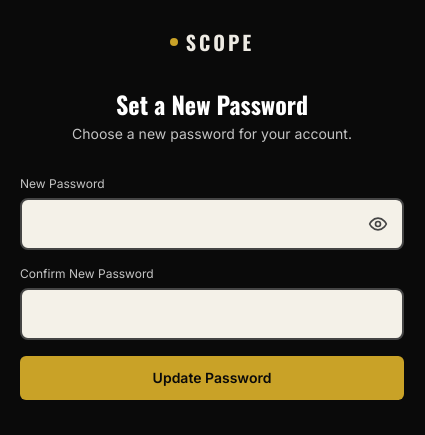
Test case: ResetPassword › shows a safe generic error (not the raw Supabase message) and stays on the form if updateUser fails
Check: the heading "Set a New Password" is shown, box [116,86,308,122]
Type "newpw123" into the 1st password field at (212, 224), box [20,198,404,250]
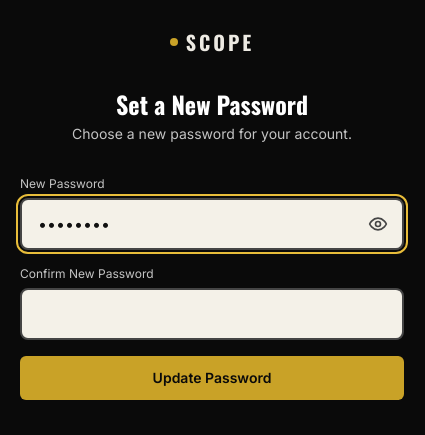
Type "newpw123" into the password field below "Confirm New Password" at (212, 314), box [20,288,404,340]
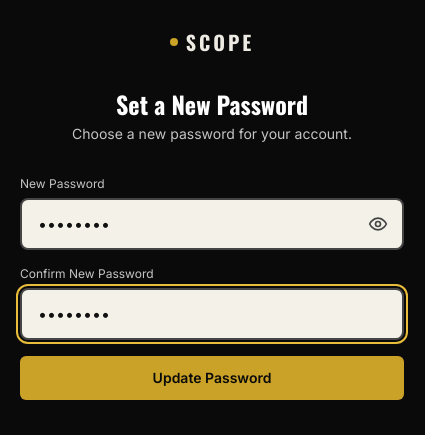
Click the button "Update Password" at (212, 378), box [20,356,404,400]
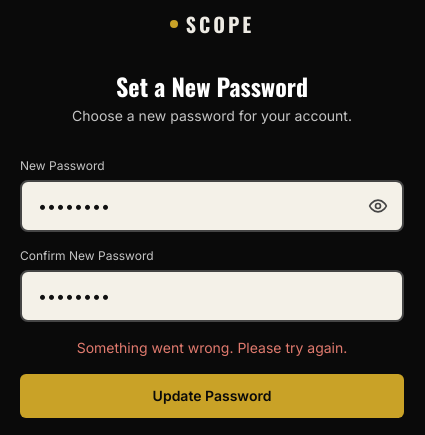
Check: the text "Something went wrong. Please try again." is shown, box [77,339,347,356]
